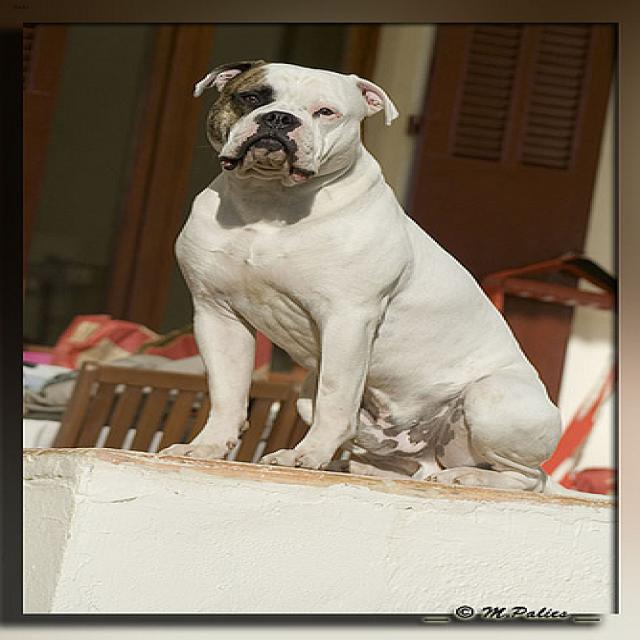dog-american_bulldog: (142, 51, 571, 504)
